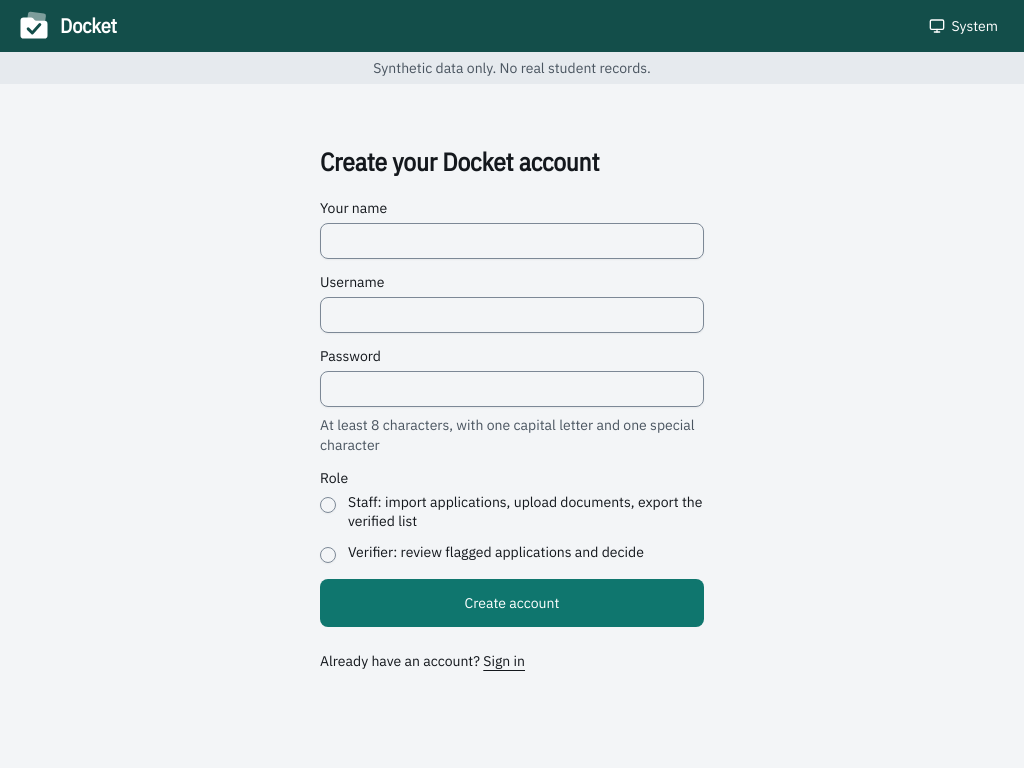
Test: signing up › says the username is taken on a 409
In the field labelled "Your name": (512, 241) [320,223,704,259], type "Asha Kumar"
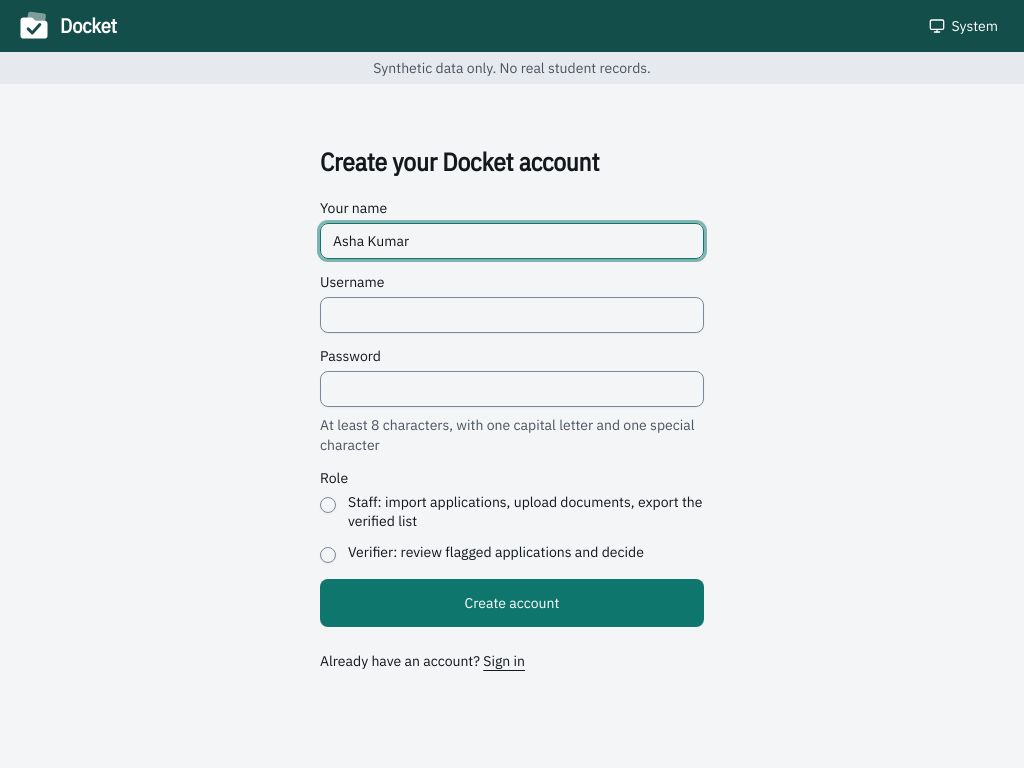
In the field labelled "Username": (512, 315) [320,297,704,333], type "asha.k"
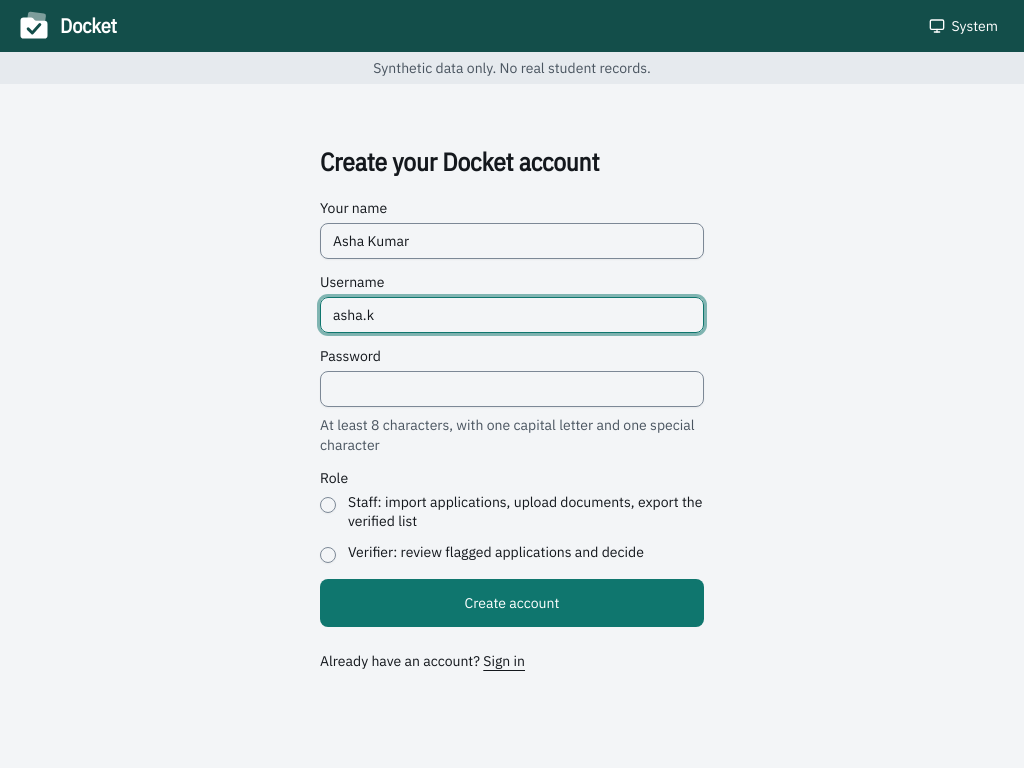
In the password field labelled "Password": (512, 389) [320,371,704,407], type "A-long-phrase-1"
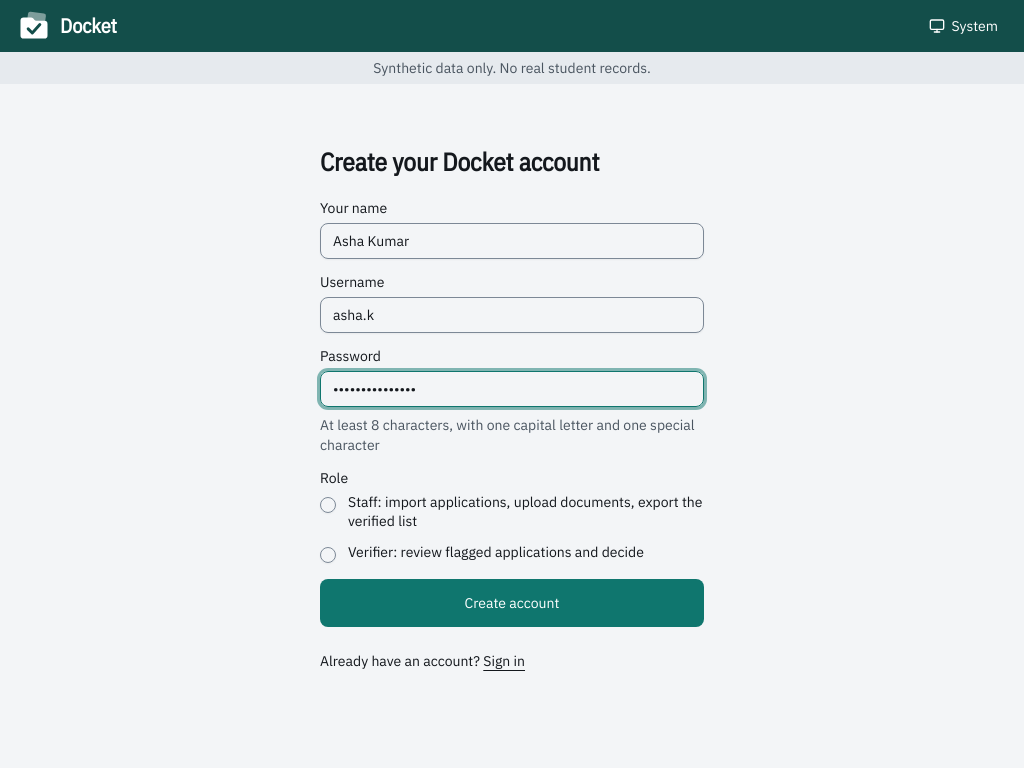
Click the 1st radio button named "Staff": click(328, 505) [320,497,336,513]
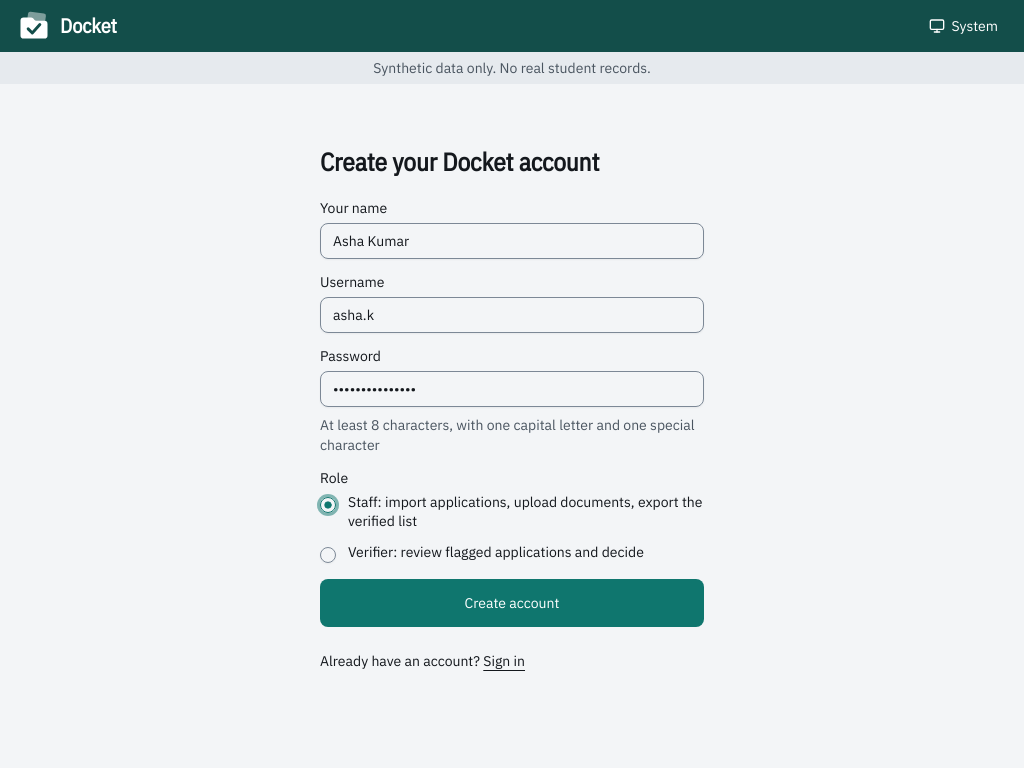
Click the button "Create account": click(512, 603) [320,579,704,627]
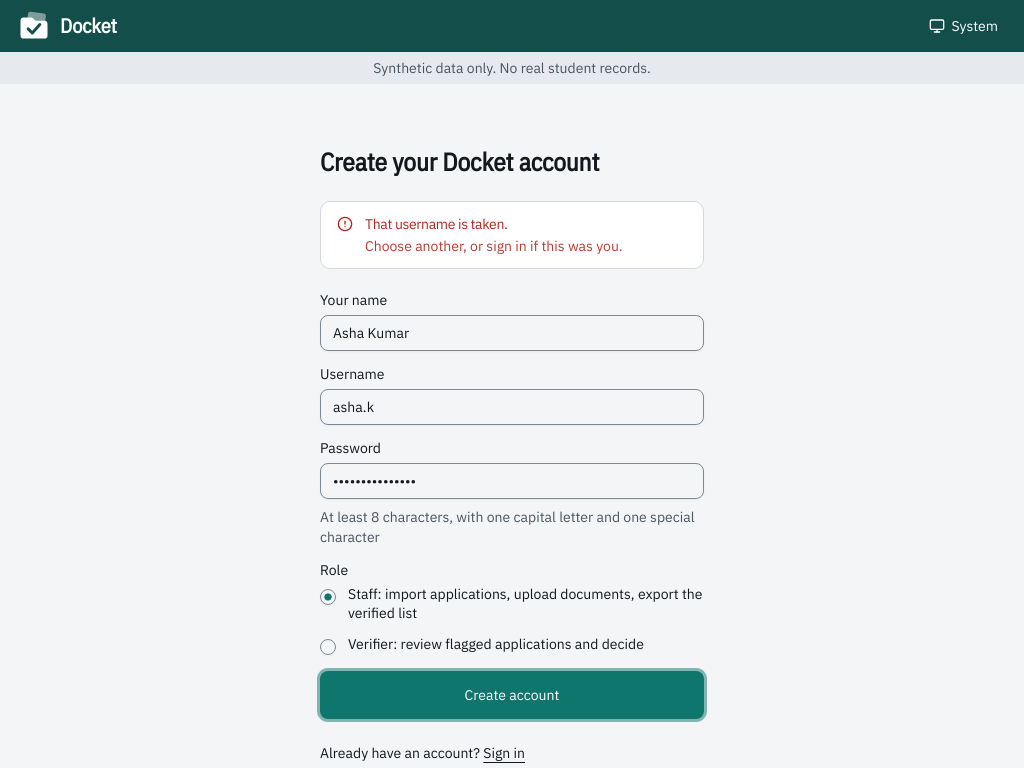
Check: the text "That username is taken." is shown, box [365,215,507,233]
